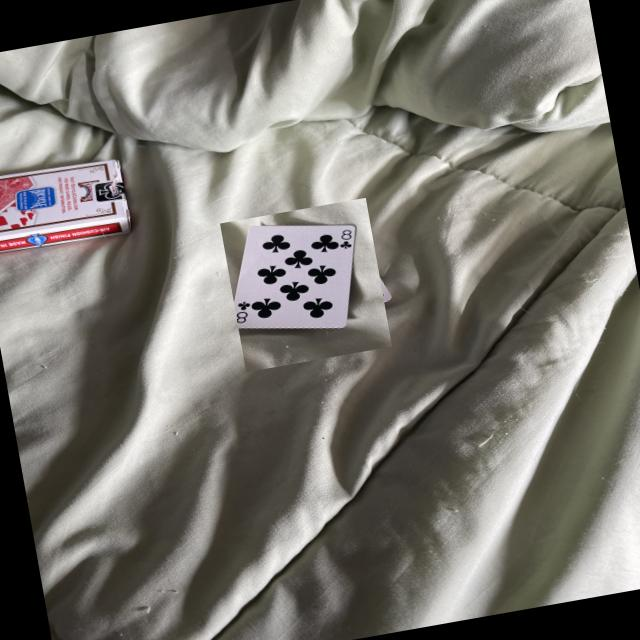8 of clubs: (220, 198, 392, 372)
